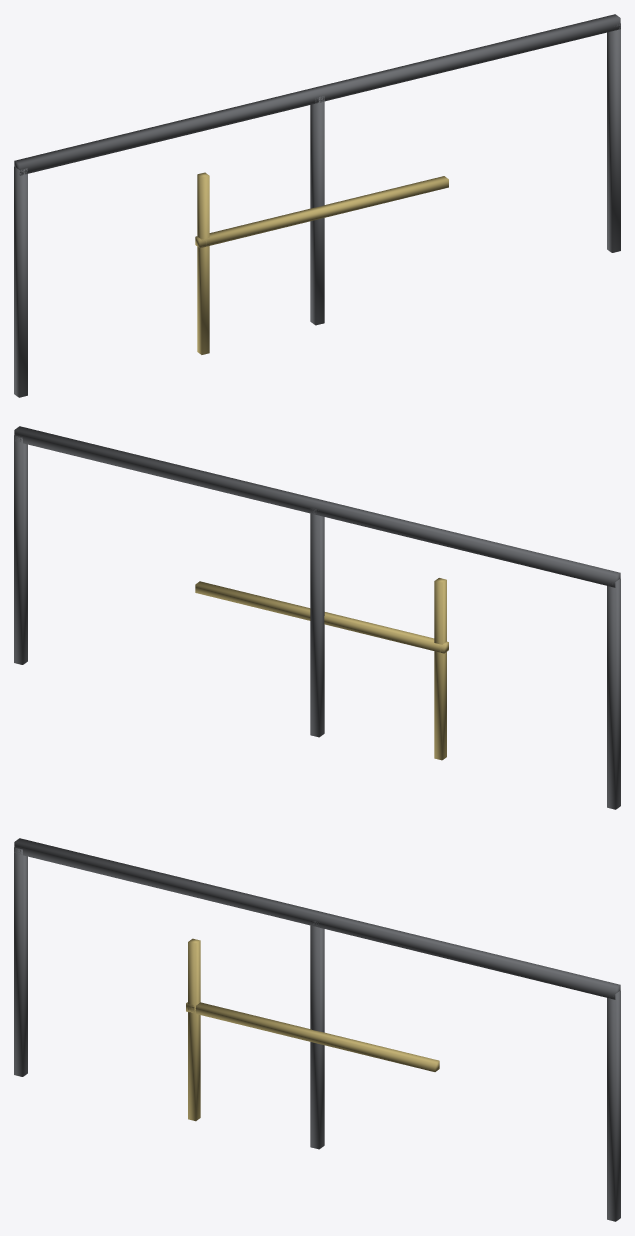
The model's file is industrial_gate_l300_h110.glb.
The picture shows the model from 3 angles, top to bottom: view 1: azimuth 30°, elevation 25°; view 2: azimuth 150°, elevation 25°; view 3: azimuth 330°, elevation 25°; orthographic projection.
Parts seen in each view (by area): view 1: world; view 2: world; view 3: world.
Boxes of the visible parts, x1,y1,x2,y2 form: world: [14, 14, 620, 397]; world: [14, 426, 620, 809]; world: [14, 838, 620, 1221].
Size of the model in its own units: 3.05 by 1.13 by 0.0825.
